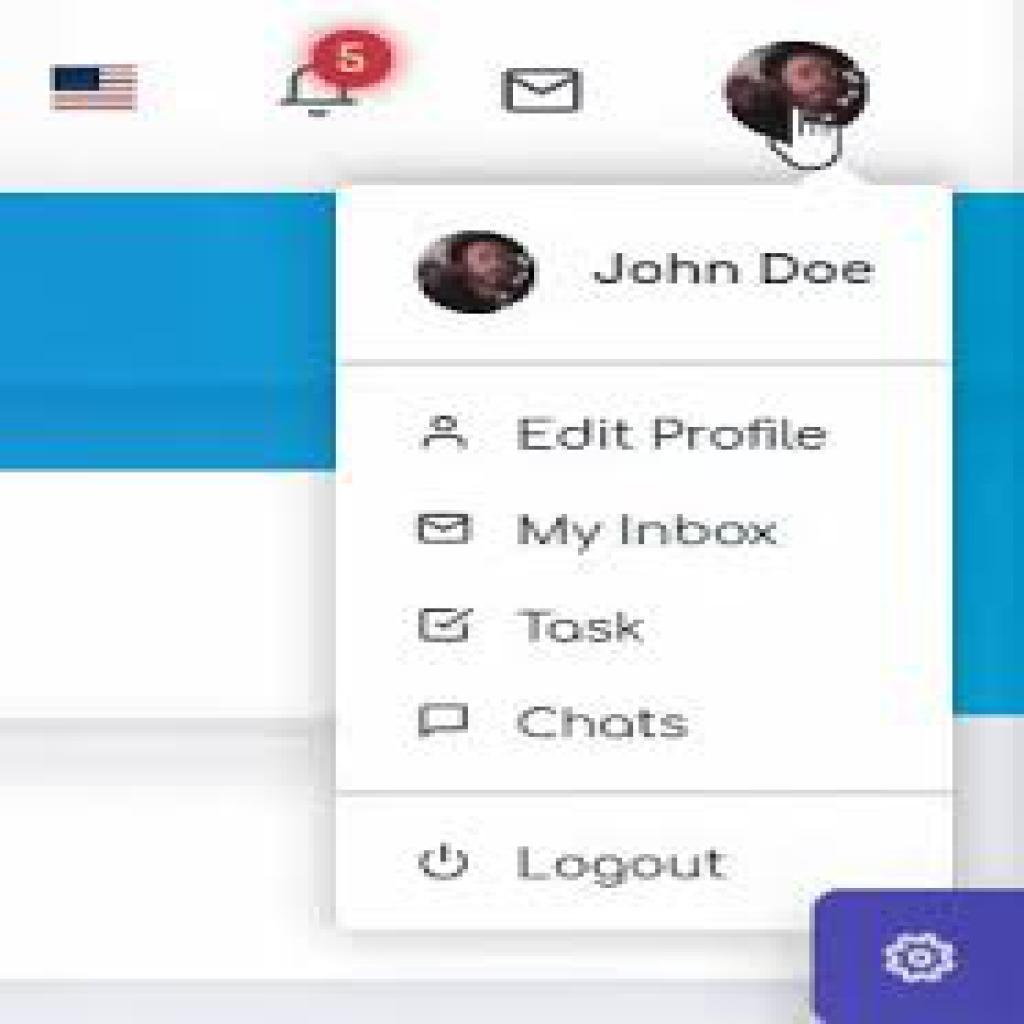icon: (500, 62, 587, 120), (881, 930, 960, 990), (412, 407, 482, 463), (415, 511, 478, 551), (419, 840, 473, 885), (419, 606, 478, 647), (420, 699, 472, 742)
label: (517, 412, 831, 455), (514, 508, 784, 555), (591, 251, 878, 295), (517, 838, 732, 896), (512, 697, 696, 746), (512, 602, 653, 650)
